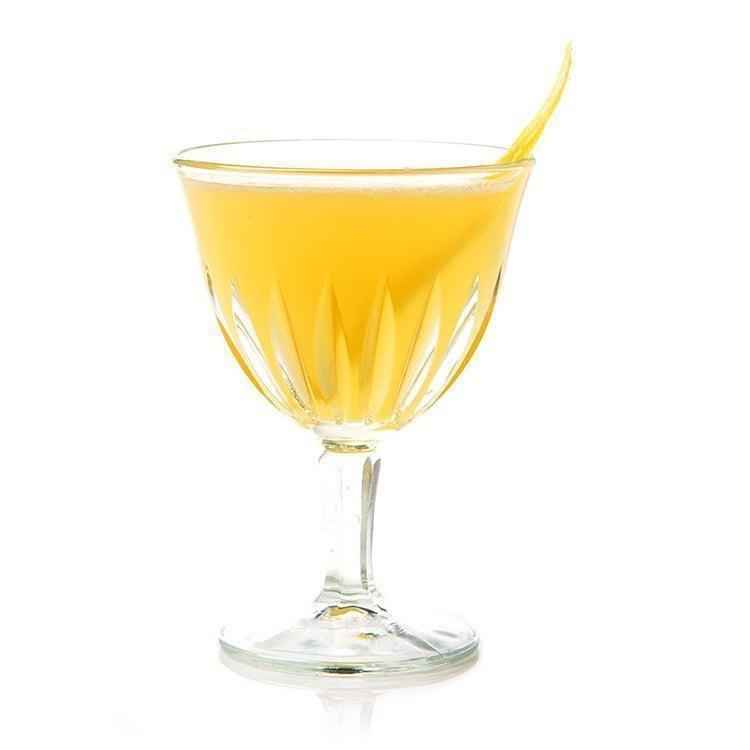glass-wine: (169, 137, 538, 684)
